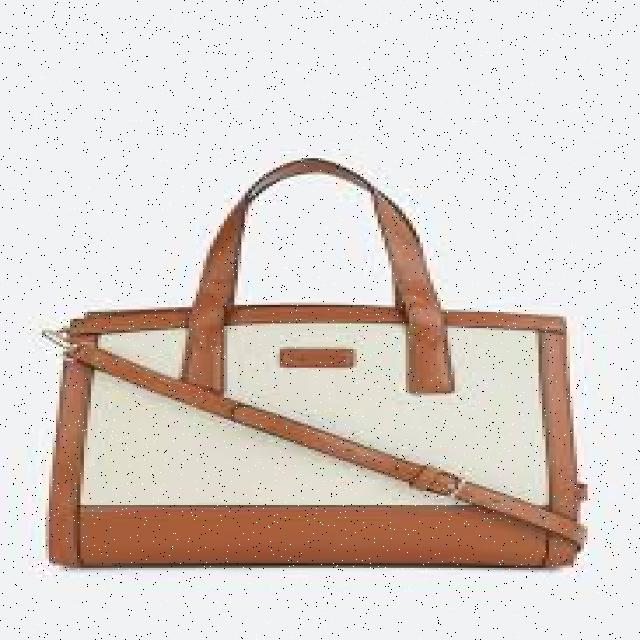handbag: (39, 156, 588, 568)
